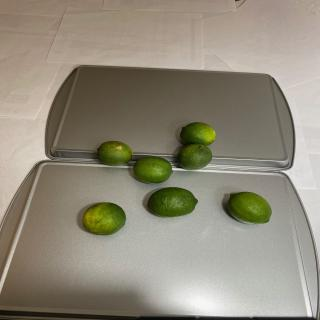Lemon: (227, 191, 272, 225), (147, 187, 198, 217), (82, 202, 126, 235), (133, 156, 173, 184), (177, 143, 212, 171), (97, 140, 133, 166), (180, 122, 216, 146)
